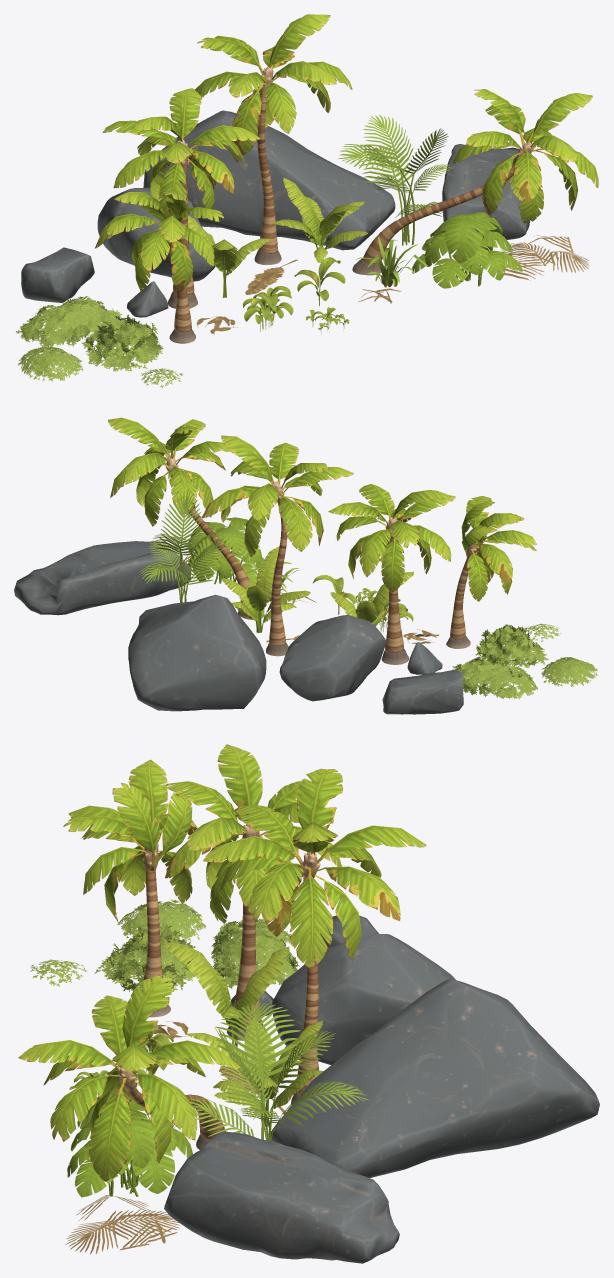
Rendered from vegetation.glb.
3 views of the same model, one above another, from view 1: azimuth 30°, elevation 25°; view 2: azimuth 150°, elevation 25°; view 3: azimuth 270°, elevation 25° (orthographic). The views are drawn at different scales.
Parts seen in each view (by area): view 1: Rocks_low.002, Palm_02, Palm_01, Palm_04, Palm_03, Plant_03, Plant_04, Rocks_low.001, Bush_04, Bush_03, Rocks_low.004, Rocks_low.003 (+9 smaller); view 2: Rocks_low.002, Palm_01, Rocks_low.001, Palm_04, Palm_02, Rocks_low.003, Palm_03, Plant_04, Rocks_low.004, Plant_03, Bush_03, Plant_01 (+5 smaller); view 3: Rocks_low.002, Rocks_low.001, Palm_01, Palm_02, Rocks_low.003, Palm_03, Palm_04, Plant_04, Plant_03, Plant_01, Plant_02, Bush_04 (+4 smaller).
Boxes of the visible parts, left/top/right/bottom form: Rocks_low.002: left=143, top=110, right=395, bottom=250; Palm_02: left=352, top=89, right=598, bottom=275; Palm_01: left=193, top=14, right=352, bottom=264; Palm_04: left=102, top=88, right=260, bottom=308; Palm_03: left=95, top=191, right=224, bottom=343; Plant_03: left=412, top=212, right=522, bottom=288; Plant_04: left=338, top=115, right=453, bottom=245; Rocks_low.001: left=442, top=144, right=529, bottom=239; Bush_04: left=81, top=314, right=163, bottom=371; Bush_03: left=16, top=296, right=122, bottom=347; Rocks_low.004: left=21, top=247, right=94, bottom=302; Rocks_low.003: left=97, top=187, right=215, bottom=281; Rocks_low.002: left=128, top=594, right=266, bottom=711; Palm_01: left=201, top=435, right=353, bottom=656; Rocks_low.001: left=14, top=541, right=190, bottom=615; Palm_04: left=328, top=484, right=455, bottom=664; Palm_02: left=108, top=417, right=264, bottom=619; Rocks_low.003: left=279, top=615, right=386, bottom=701; Palm_03: left=446, top=496, right=536, bottom=648; Plant_04: left=139, top=488, right=245, bottom=602; Rocks_low.004: left=382, top=670, right=463, bottom=714; Plant_03: left=188, top=517, right=266, bottom=584; Bush_03: left=452, top=656, right=537, bottom=699; Plant_01: left=221, top=546, right=310, bottom=633; Rocks_low.002: left=271, top=978, right=599, bottom=1177; Rocks_low.001: left=164, top=1131, right=399, bottom=1263; Palm_01: left=203, top=768, right=426, bottom=1104; Palm_02: left=18, top=974, right=241, bottom=1181; Rocks_low.003: left=272, top=934, right=455, bottom=1064; Palm_03: left=63, top=759, right=197, bottom=1017; Palm_04: left=165, top=744, right=341, bottom=1040; Plant_04: left=188, top=1002, right=369, bottom=1140; Plant_03: left=67, top=1096, right=192, bottom=1197; Plant_01: left=186, top=1019, right=323, bottom=1126; Plant_02: left=165, top=942, right=289, bottom=1046; Bush_04: left=94, top=922, right=195, bottom=991.
Size of the model in its own units: 16.27 by 6.54 by 10.87.
Materials: 5 (5 with a texture image).
